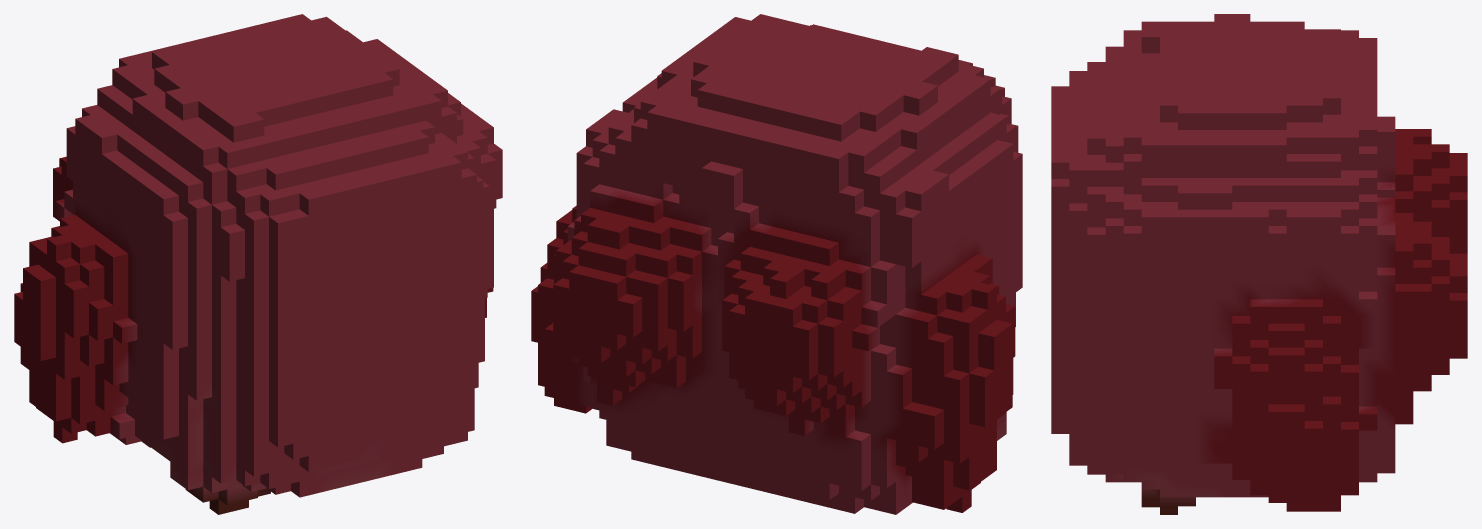
File: enemy_base.glb
The picture shows the model from 3 angles, left to right: view 1: azimuth 30°, elevation 25°; view 2: azimuth 150°, elevation 25°; view 3: azimuth 270°, elevation 25°; orthographic projection. The views are drawn at different scales.
Visible parts, largest first — view 1: Cube; view 2: Cube; view 3: Cube.
Part boxes in pixels (<box>): Cube: <box>14,14,502,514</box>; Cube: <box>531,14,1022,514</box>; Cube: <box>1051,14,1467,514</box>.
Bounding box in the file's own units: 2.72 × 2.25 × 2.16.
